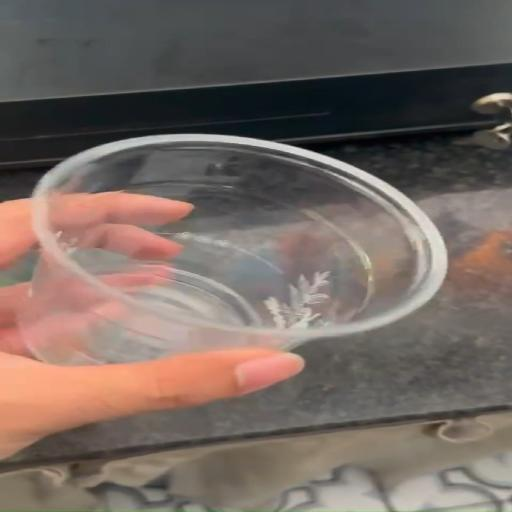ly_nhua: (15, 134, 447, 365)
